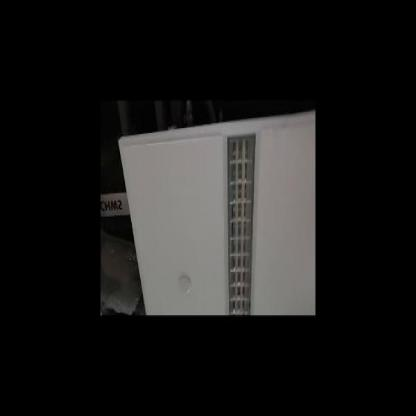light_off: (220, 123, 260, 315)
